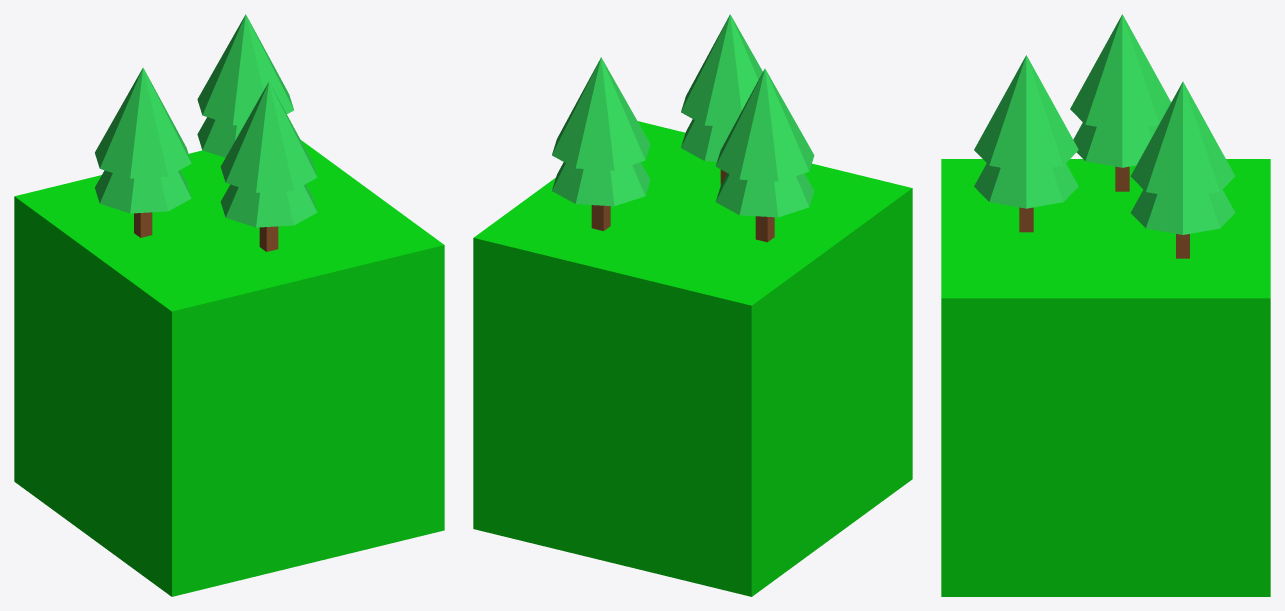
File: tree.gltf
3 views of the same model, side by side, from view 1: azimuth 30°, elevation 25°; view 2: azimuth 150°, elevation 25°; view 3: azimuth 270°, elevation 25° (orthographic). The views are drawn at different scales.
Parts seen in each view (by area): view 1: Cone.002; view 2: Cone.002; view 3: Cone.002.
Part boxes in pixels (x1,y1,x2,y2): Cone.002: (14, 14, 444, 596); Cone.002: (473, 14, 912, 596); Cone.002: (941, 14, 1270, 596).
Bounding box in the file's own units: 2 × 3.17 × 2.
